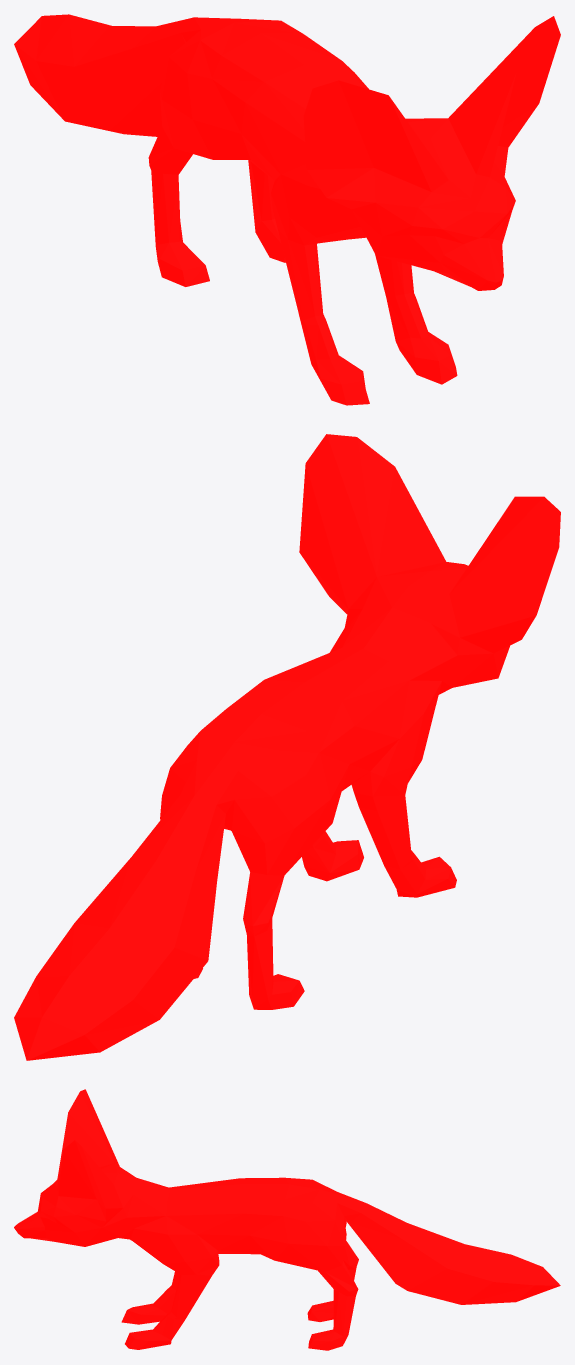
File: veryperfectfoxcolourdae.dae
3 renders of one model, top to bottom at view 1: azimuth 30°, elevation 25°; view 2: azimuth 150°, elevation 25°; view 3: azimuth 270°, elevation 25°, orthographic. The views are drawn at different scales.
Parts seen in each view (by area): view 1: obj_0; view 2: obj_0; view 3: obj_0.
Boxes of the visible parts, x1,y1,x2,y2 form: obj_0: (14, 14, 560, 405); obj_0: (14, 434, 560, 1060); obj_0: (14, 1089, 560, 1350).
Size of the model in its own units: 0.7525 by 2.41 by 1.06.
